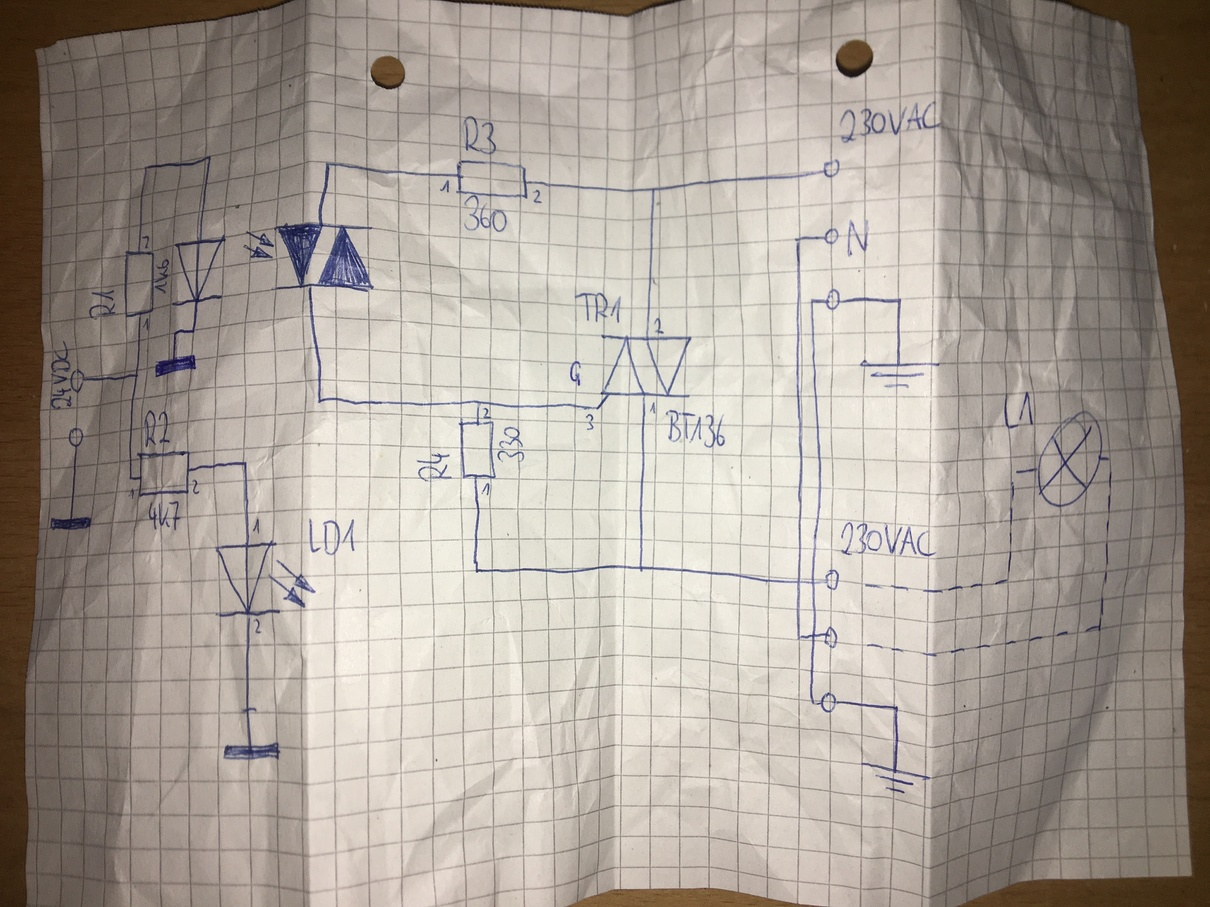crossover: (808, 577, 818, 589), (794, 577, 804, 588), (809, 630, 818, 640)
diode.light_emitting: (212, 539, 318, 618)
gnd: (857, 758, 934, 798), (859, 358, 943, 391), (220, 737, 286, 766), (152, 351, 199, 380), (47, 512, 96, 534)
junction: (1105, 454, 1116, 474), (470, 563, 484, 578), (322, 157, 335, 173), (1003, 568, 1014, 586), (1009, 467, 1020, 485), (314, 395, 326, 407), (473, 397, 484, 409), (894, 295, 905, 306), (891, 702, 902, 713), (204, 153, 216, 163), (808, 296, 818, 307), (792, 235, 804, 244), (241, 458, 251, 468), (648, 185, 659, 194), (1095, 623, 1104, 634), (637, 563, 646, 574), (795, 633, 804, 643), (132, 371, 142, 380), (809, 697, 818, 707), (189, 326, 198, 335), (141, 163, 150, 172), (171, 329, 179, 338), (127, 473, 134, 482)
lamp: (1035, 409, 1105, 509)
optocoupler: (169, 218, 378, 309)
resistor: (454, 158, 531, 202), (136, 449, 192, 499), (458, 418, 498, 483), (123, 249, 156, 318)
terminal: (821, 156, 843, 180), (69, 368, 87, 394), (67, 426, 85, 449), (822, 226, 841, 247)
text: (836, 99, 944, 147), (837, 520, 939, 560), (662, 407, 729, 451), (305, 515, 360, 558), (573, 289, 625, 326), (462, 194, 509, 234), (48, 339, 73, 411), (460, 114, 498, 156), (1001, 390, 1038, 432), (142, 409, 176, 451), (414, 450, 454, 485), (844, 216, 873, 261), (496, 424, 527, 465), (147, 500, 183, 533), (87, 287, 118, 321), (154, 258, 172, 295), (568, 359, 584, 389), (651, 315, 666, 335), (583, 411, 596, 432), (530, 188, 545, 206), (252, 618, 265, 636), (439, 179, 452, 196), (252, 517, 264, 535), (480, 481, 493, 497), (190, 478, 201, 496), (141, 233, 152, 250), (142, 316, 152, 333), (648, 399, 658, 416), (481, 406, 493, 420), (127, 487, 136, 502)
triac: (594, 333, 694, 411)
